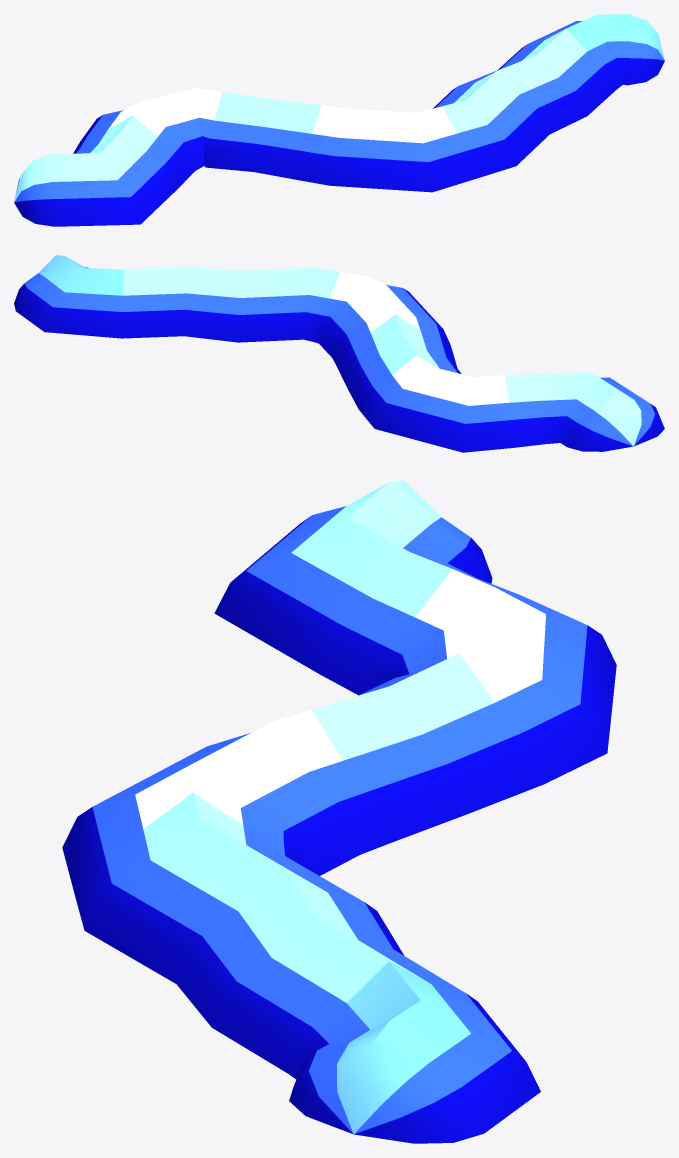
The model's file is shot_lightning_side.glb.
3 views of the same model, one above another, from view 1: azimuth 30°, elevation 25°; view 2: azimuth 150°, elevation 25°; view 3: azimuth 270°, elevation 25° (orthographic). The views are drawn at different scales.
Parts seen in each view (by area): view 1: shot_lightning_side_0; view 2: shot_lightning_side_0; view 3: shot_lightning_side_0.
Boxes of the visible parts, x1,y1,x2,y2 form: shot_lightning_side_0: [14, 14, 664, 226]; shot_lightning_side_0: [14, 255, 664, 452]; shot_lightning_side_0: [62, 481, 616, 1143].
Size of the model in its own units: 13.52 by 1.01 by 5.24.
